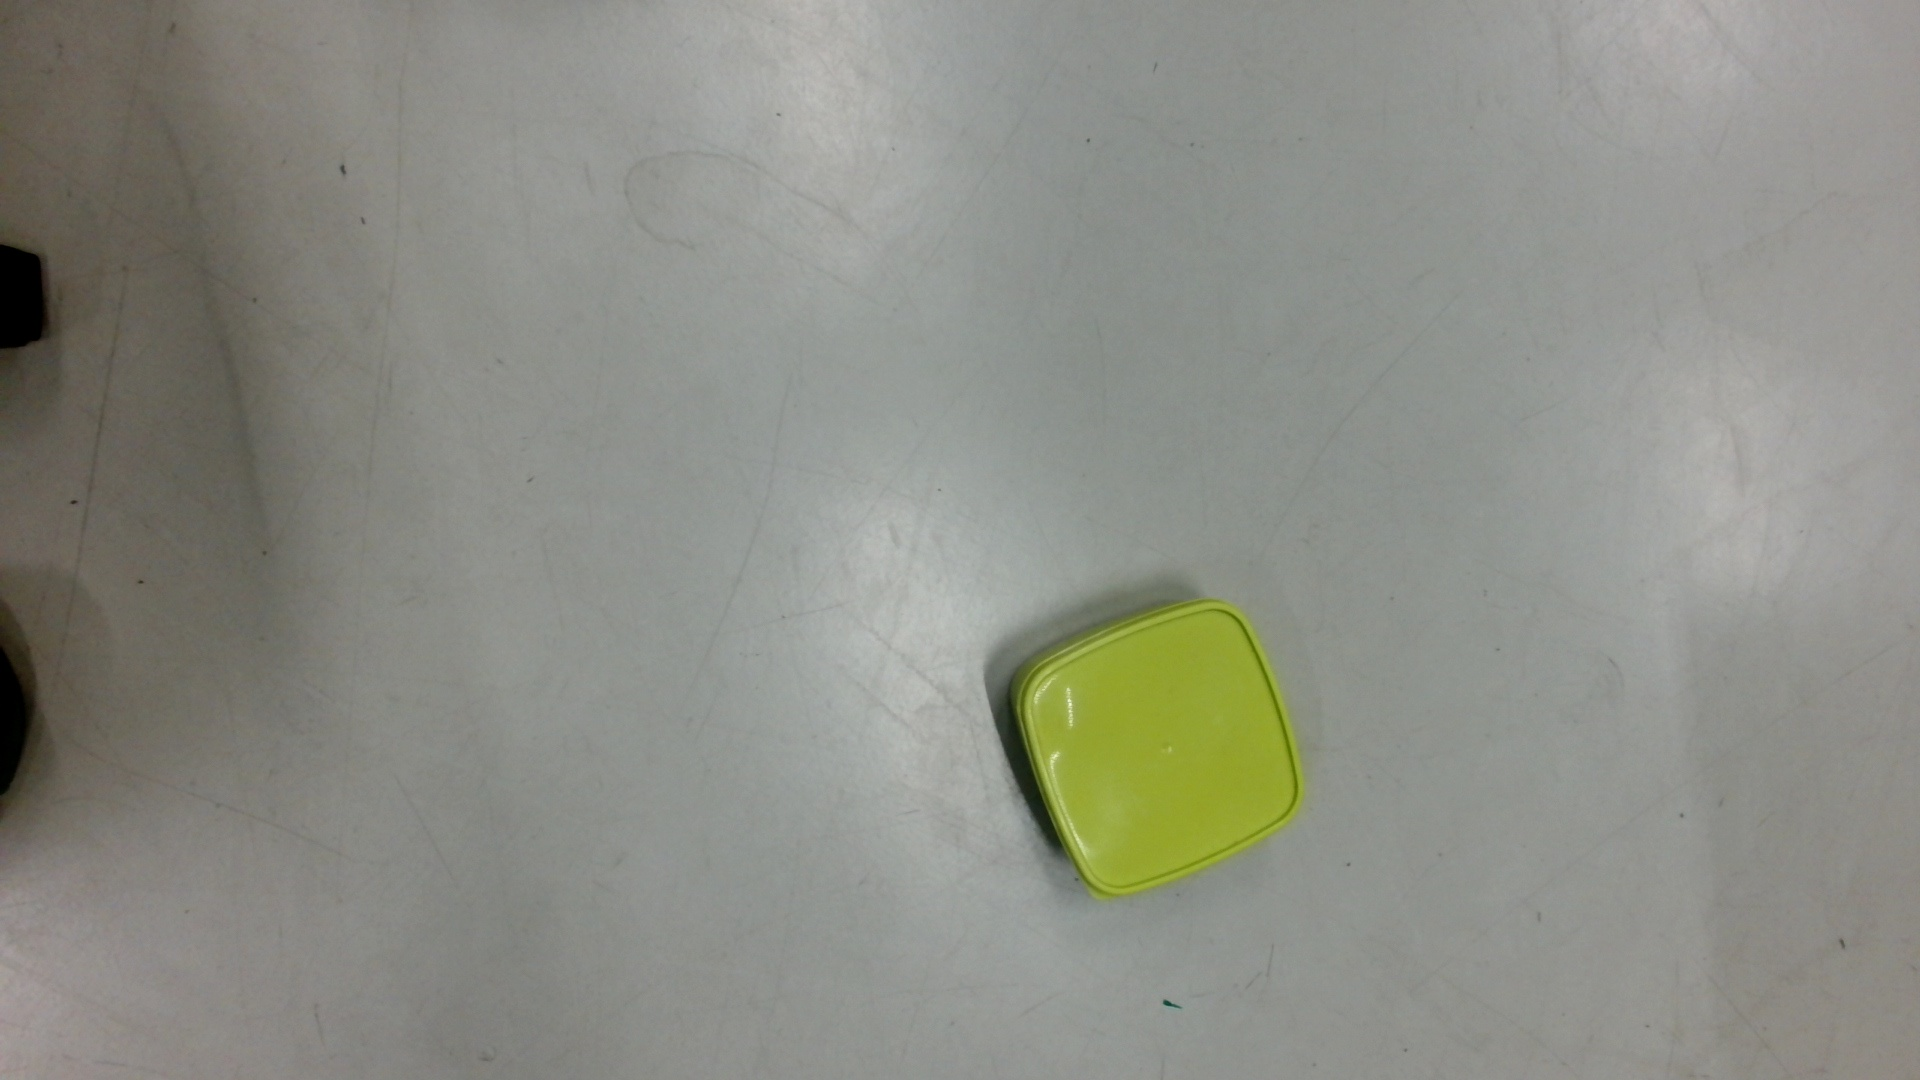Box: (1004, 591, 1313, 907)
